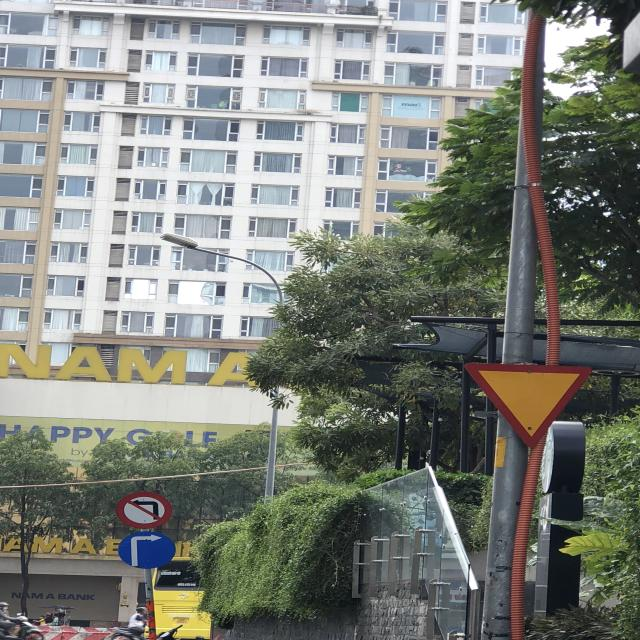Bien bao cam re trai: (116, 486, 178, 530)
Bien bao giao nhau voi duong uu tien: (460, 356, 592, 448)
Bien bao huong di phai theo: (115, 527, 179, 573)
